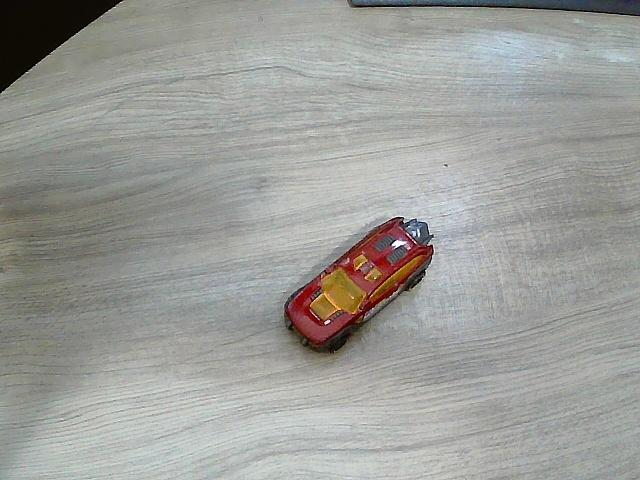Carro: (285, 218, 436, 354)
